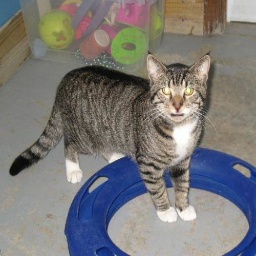cat: (6, 52, 206, 223)
